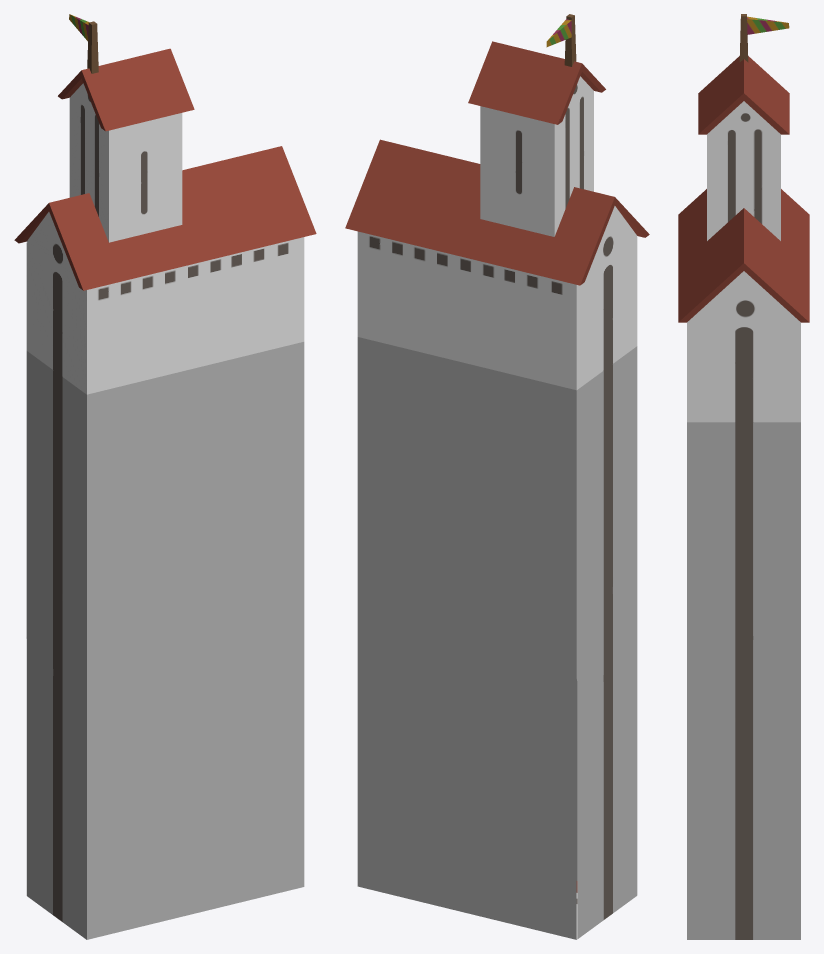
The model's file is House_3.fbx.
3 renders of one model, left to right at view 1: azimuth 30°, elevation 25°; view 2: azimuth 150°, elevation 25°; view 3: azimuth 270°, elevation 25°, orthographic. The views are drawn at different scales.
Visible parts, largest first — view 1: Cube; view 2: Cube; view 3: Cube.
Boxes of the visible parts, left/top/right/bottom form: Cube: left=14, top=14, right=316, bottom=939; Cube: left=345, top=14, right=649, bottom=939; Cube: left=678, top=14, right=809, bottom=939.
Bounding box in the file's own units: 447 × 1625 × 230.
